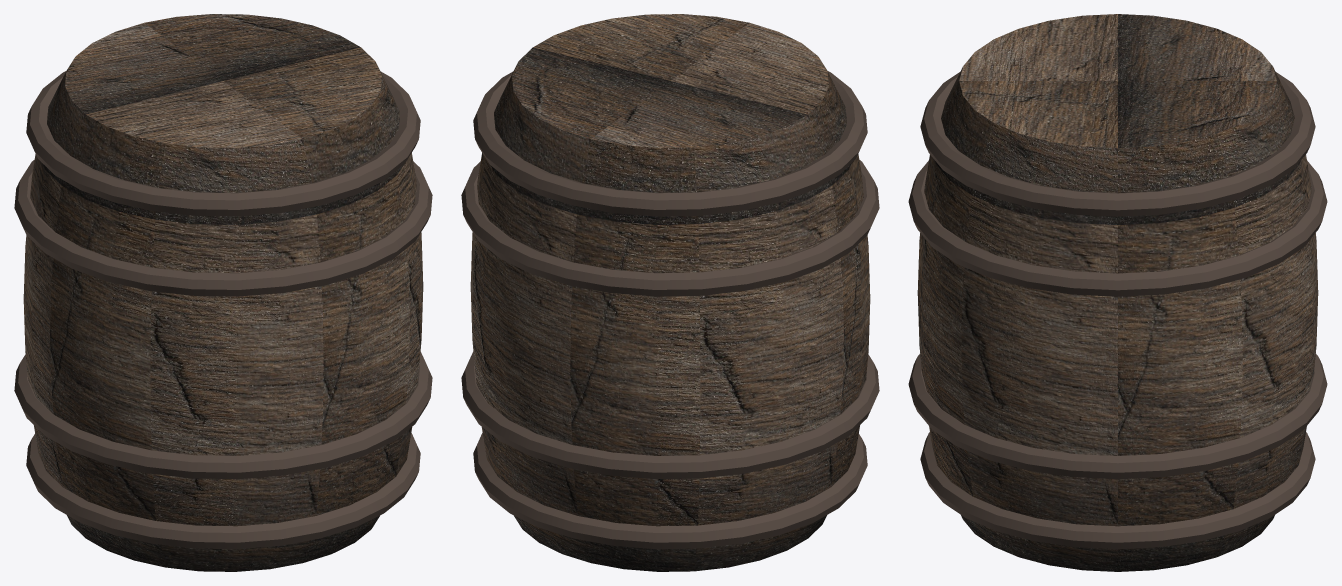
File: barrel-v02.glb
3 views of the same model, side by side, from view 1: azimuth 30°, elevation 25°; view 2: azimuth 150°, elevation 25°; view 3: azimuth 270°, elevation 25° (orthographic).
Visible parts, largest first — view 1: barrel; view 2: barrel; view 3: barrel.
Part boxes in pixels (x1,y1,x2,y2): barrel: [14, 14, 432, 571]; barrel: [461, 14, 879, 571]; barrel: [908, 14, 1327, 571].
Size of the model in its own units: 1.17 by 1.3 by 1.17.
2 materials, 2 textured.
